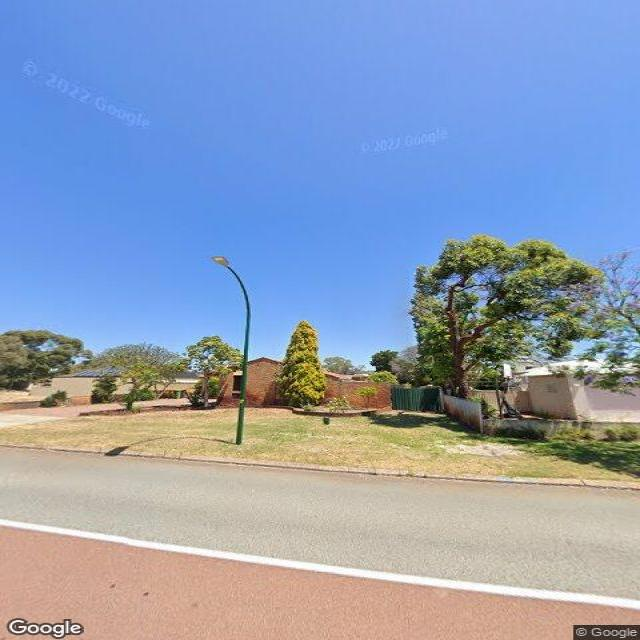steel-pole: (235, 310, 251, 445)
streetlight: (212, 255, 252, 316)
